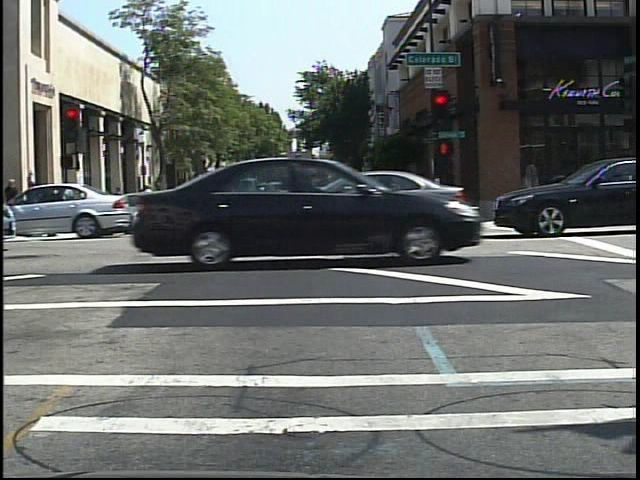person: (139, 181, 155, 216), (136, 181, 151, 213)
